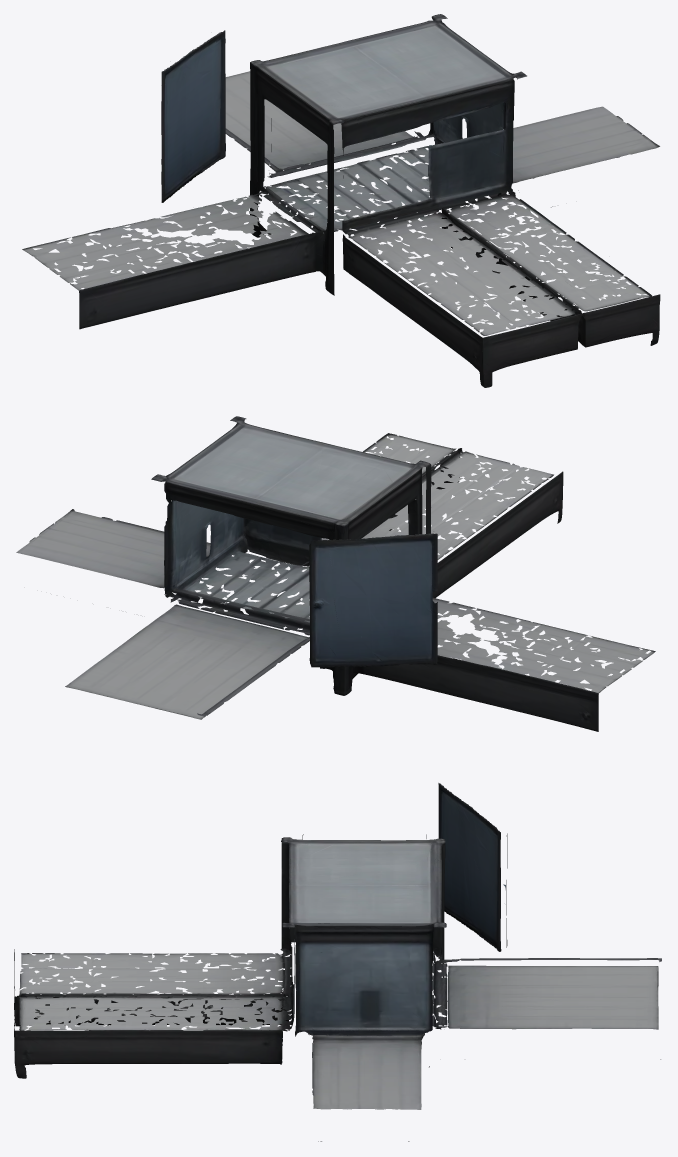
3 views of the same model, one above another, from view 1: azimuth 30°, elevation 25°; view 2: azimuth 150°, elevation 25°; view 3: azimuth 270°, elevation 25° (orthographic). The views are drawn at different scales.
Parts seen in each view (by area): view 1: geometry_0; view 2: geometry_0; view 3: geometry_0.
Part boxes in pixels (x1=…): geometry_0: x1=22, y1=14, x2=660, y2=387; geometry_0: x1=16, y1=416, x2=655, y2=731; geometry_0: x1=14, y1=783, x2=661, y2=1141.
Size of the model in its own units: 0.9984 by 0.2997 by 0.9984.
1 material, 1 textured.
